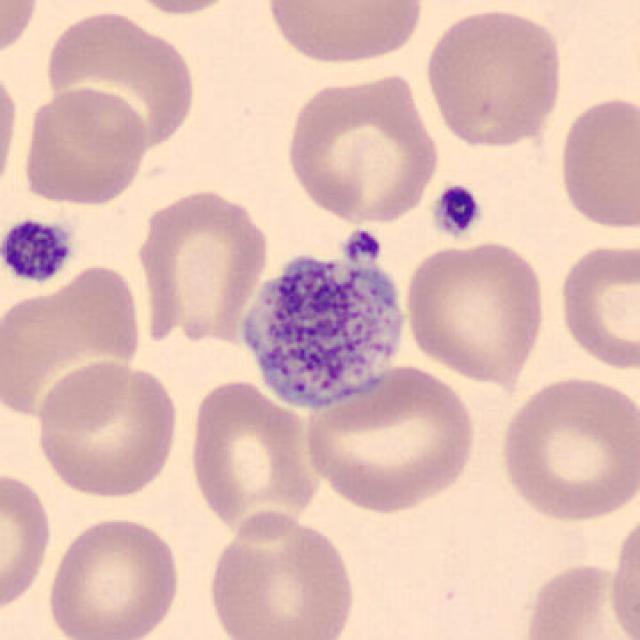Platelets: (231, 226, 414, 420), (0, 213, 76, 287), (323, 223, 391, 268), (430, 182, 484, 238)
RBC: (300, 360, 482, 514), (281, 68, 444, 225), (41, 7, 201, 157), (130, 184, 272, 346), (185, 376, 323, 541), (494, 370, 638, 527), (0, 263, 135, 429), (402, 238, 549, 386), (30, 358, 182, 501), (420, 3, 567, 150), (203, 508, 359, 640), (43, 513, 185, 640), (18, 85, 149, 208), (553, 90, 638, 233), (553, 238, 638, 374), (261, 0, 427, 69), (515, 557, 640, 640), (30, 354, 139, 434), (0, 464, 55, 619), (606, 504, 640, 638), (0, 60, 21, 201), (0, 0, 42, 63), (119, 0, 251, 18)
